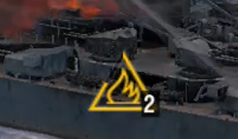2fire: (84, 76, 159, 118)
